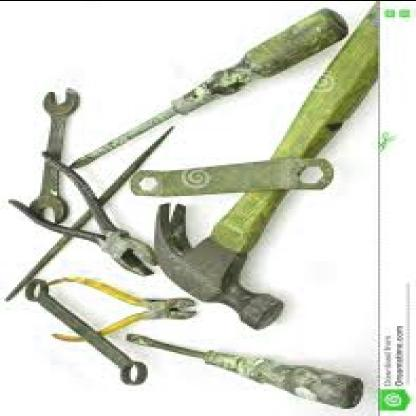Hammer: (142, 3, 374, 336)
Pliers: (0, 151, 162, 278), (38, 268, 203, 348)
Screw Driver: (58, 4, 352, 175), (118, 322, 369, 413)
Wrench: (16, 274, 152, 388), (117, 151, 338, 201), (20, 82, 84, 228)
